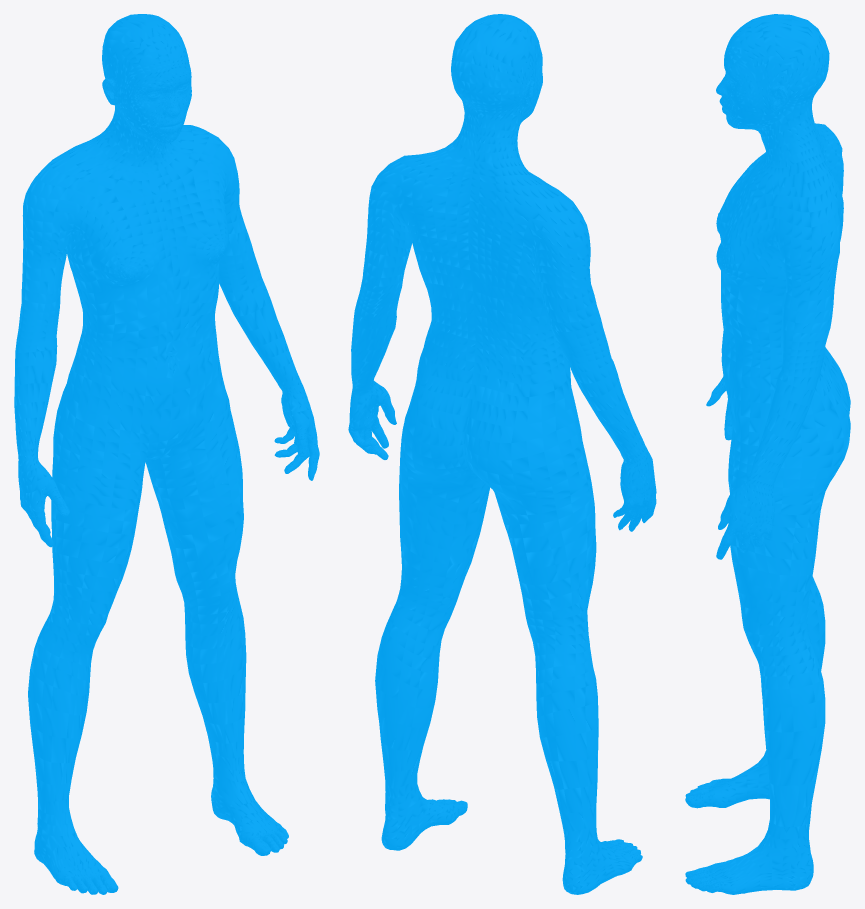
The model's file is blend1.glb.
3 views of the same model, side by side, from view 1: azimuth 30°, elevation 25°; view 2: azimuth 150°, elevation 25°; view 3: azimuth 270°, elevation 25° (orthographic). The views are drawn at different scales.
Visible parts, largest first — view 1: mode5Mesh; view 2: mode5Mesh; view 3: mode5Mesh.
Boxes of the visible parts, x1,y1,x2,y2 form: mode5Mesh: (14,14,319,894); mode5Mesh: (348,14,656,894); mode5Mesh: (685,14,850,894).
Size of the model in its own units: 6.08 by 16.59 by 3.01.
